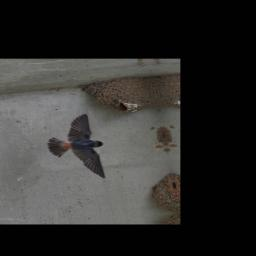Swallow: (41, 112, 113, 184)
